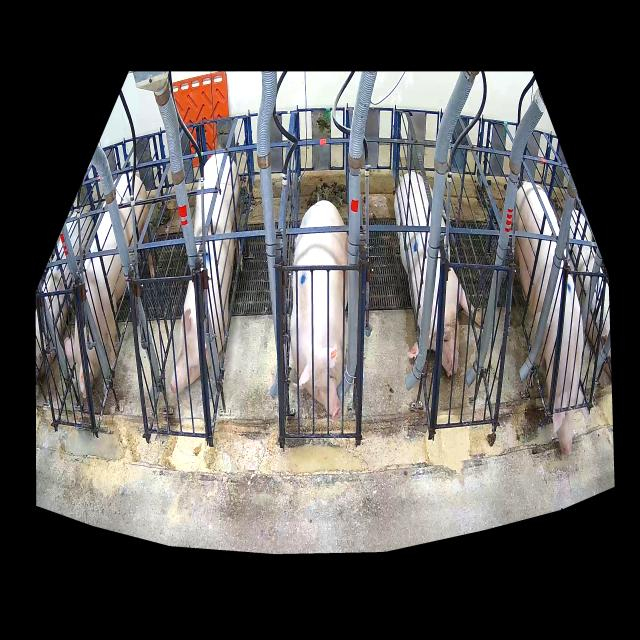pig: (514, 183, 590, 454), (64, 174, 149, 397), (395, 172, 482, 378), (170, 153, 242, 394), (291, 201, 348, 420)
